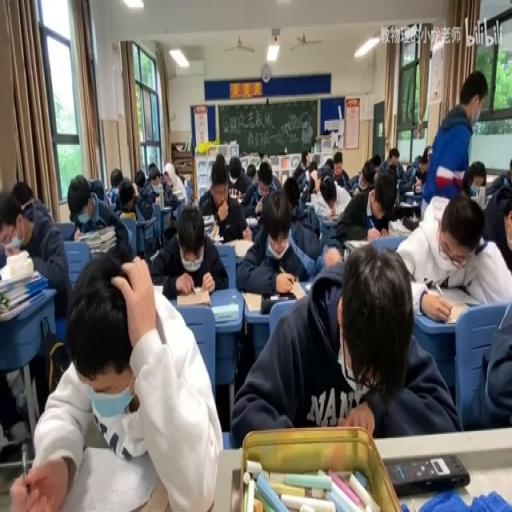calculator: (240, 283, 304, 311), (435, 283, 485, 309), (0, 264, 38, 290), (176, 287, 210, 306), (226, 236, 254, 258), (212, 300, 238, 322), (387, 216, 413, 236), (52, 222, 77, 242), (201, 215, 216, 236), (315, 208, 337, 222), (344, 239, 370, 247), (398, 199, 418, 209), (136, 215, 154, 226), (152, 283, 166, 296), (120, 209, 136, 219), (230, 194, 244, 204), (246, 214, 258, 224), (152, 195, 162, 206), (302, 198, 314, 206), (149, 250, 158, 260), (106, 193, 112, 205), (304, 282, 310, 292)
paper: (13, 248, 219, 510), (232, 247, 454, 444), (394, 191, 510, 314), (0, 183, 70, 324), (418, 71, 484, 218), (234, 186, 314, 292), (461, 273, 512, 431), (150, 203, 226, 296), (68, 174, 130, 263), (334, 168, 395, 247), (400, 148, 426, 199), (484, 157, 512, 199), (142, 161, 170, 202), (279, 174, 302, 219), (378, 145, 403, 181), (460, 161, 486, 195), (329, 150, 350, 188), (12, 180, 34, 214), (291, 150, 310, 188), (117, 183, 137, 212), (164, 180, 186, 204), (322, 246, 342, 270), (257, 162, 272, 189), (89, 176, 104, 202), (226, 156, 242, 180), (360, 164, 375, 188), (109, 166, 122, 190), (134, 168, 146, 190), (245, 164, 255, 184), (371, 154, 382, 170), (421, 146, 430, 165), (306, 179, 316, 195), (325, 156, 334, 170), (414, 155, 422, 168), (309, 163, 316, 175), (389, 164, 397, 174), (509, 159, 512, 179)
person: (386, 452, 470, 494), (342, 243, 348, 260)
